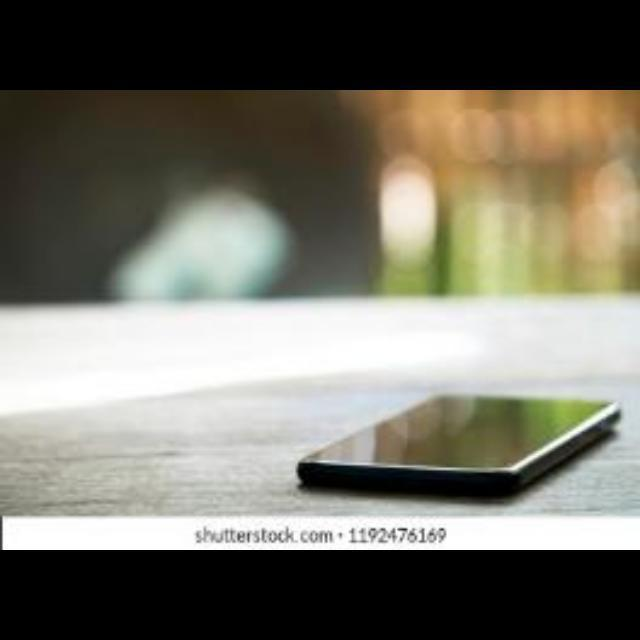PhoneUse: (299, 389, 626, 498)
